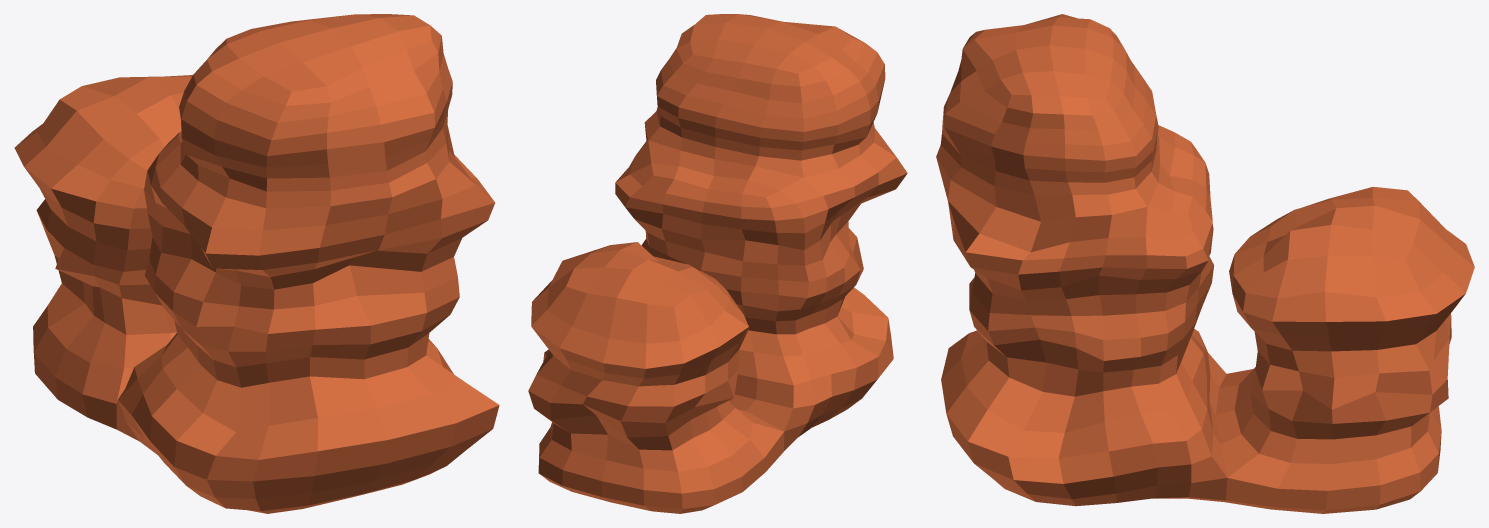
File: stone1.fbx
3 views of the same model, side by side, from view 1: azimuth 30°, elevation 25°; view 2: azimuth 150°, elevation 25°; view 3: azimuth 270°, elevation 25° (orthographic). The views are drawn at different scales.
Visible parts, largest first — view 1: stone column; view 2: stone column; view 3: stone column.
Part boxes in pixels (left/top/right/bottom): stone column: left=14, top=14, right=499, bottom=513; stone column: left=528, top=14, right=907, bottom=513; stone column: left=936, top=14, right=1474, bottom=513.
Bounding box in the file's own units: 289 × 435 × 496.
